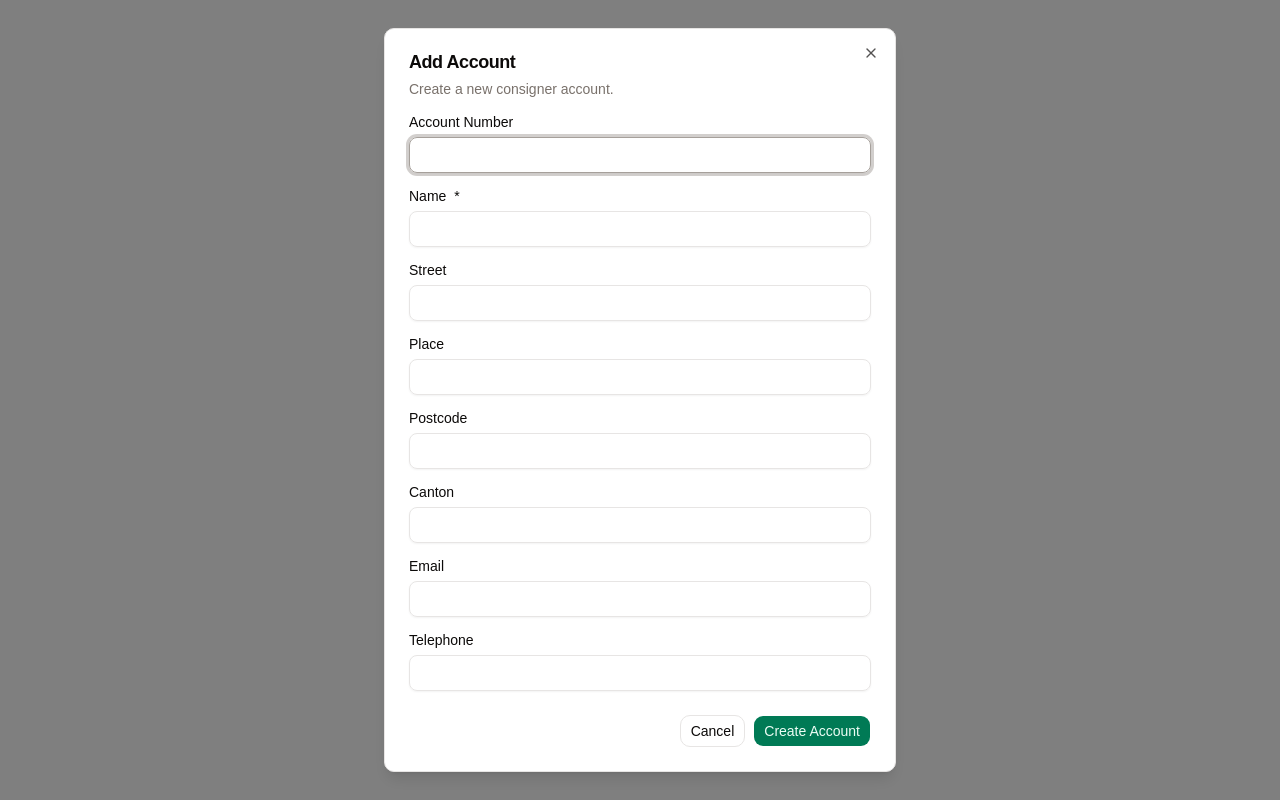
AccountForm › validation errors › shows validation error for invalid account number on submit
Type "Test Account" into the field labelled "Name *".
click(640, 229); type("Test Account")  # box [409, 211, 871, 247]
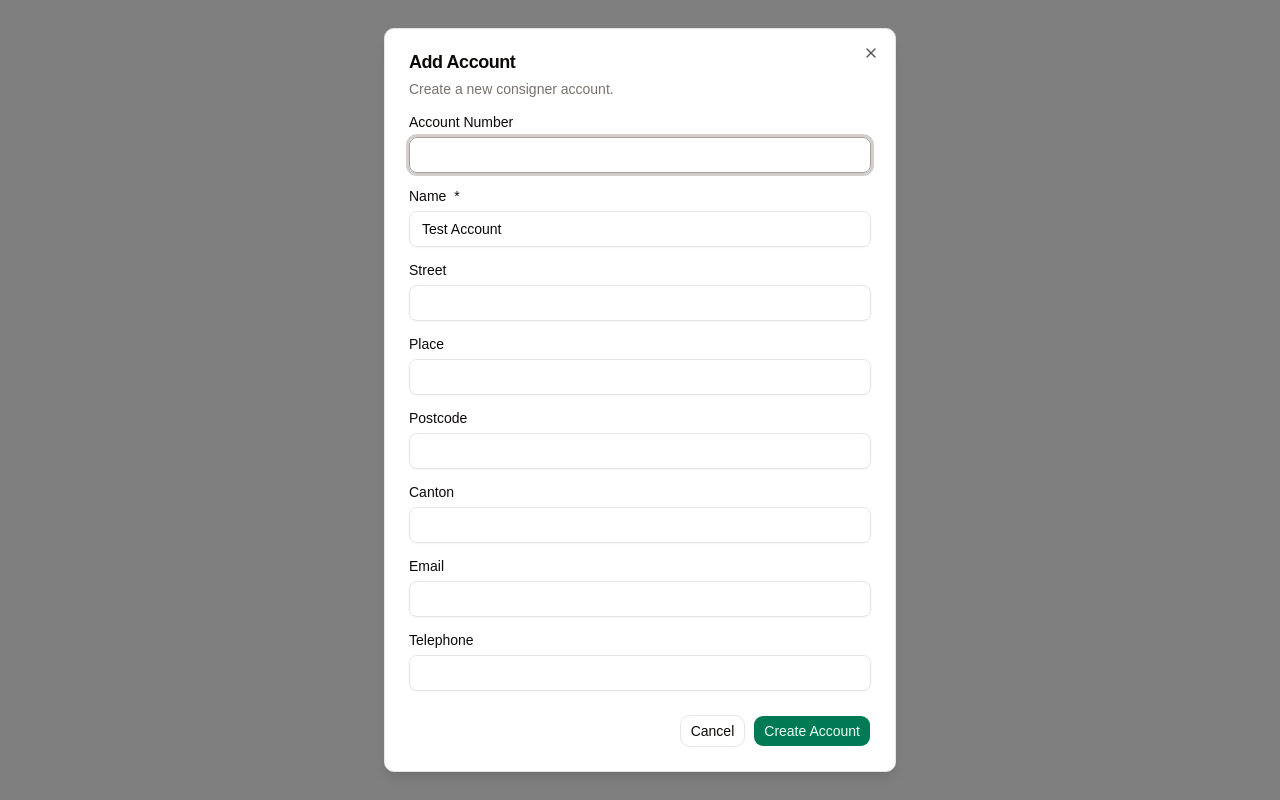
# Leave account number empty and submit
Submit the form, box [409, 115, 871, 747]
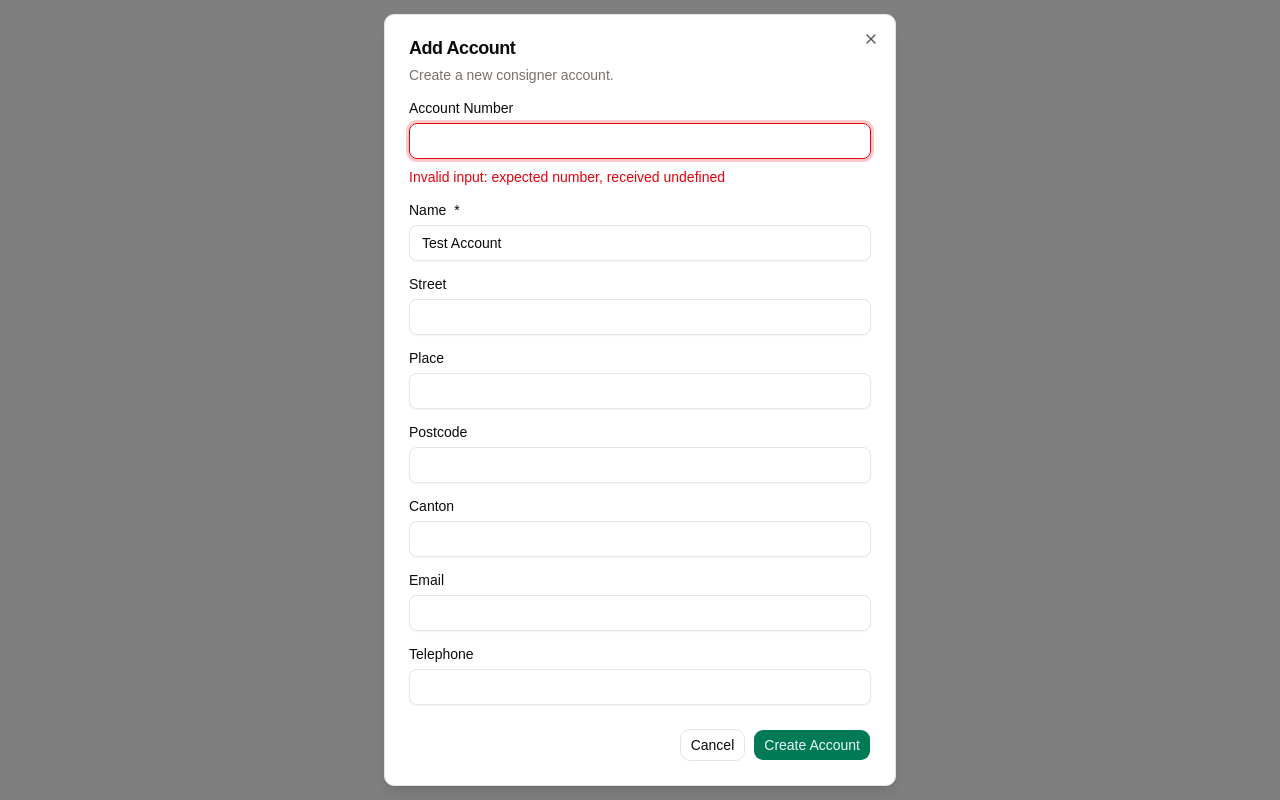
expect the message with id "account-number-error" is shown: met, box [409, 169, 725, 185]
